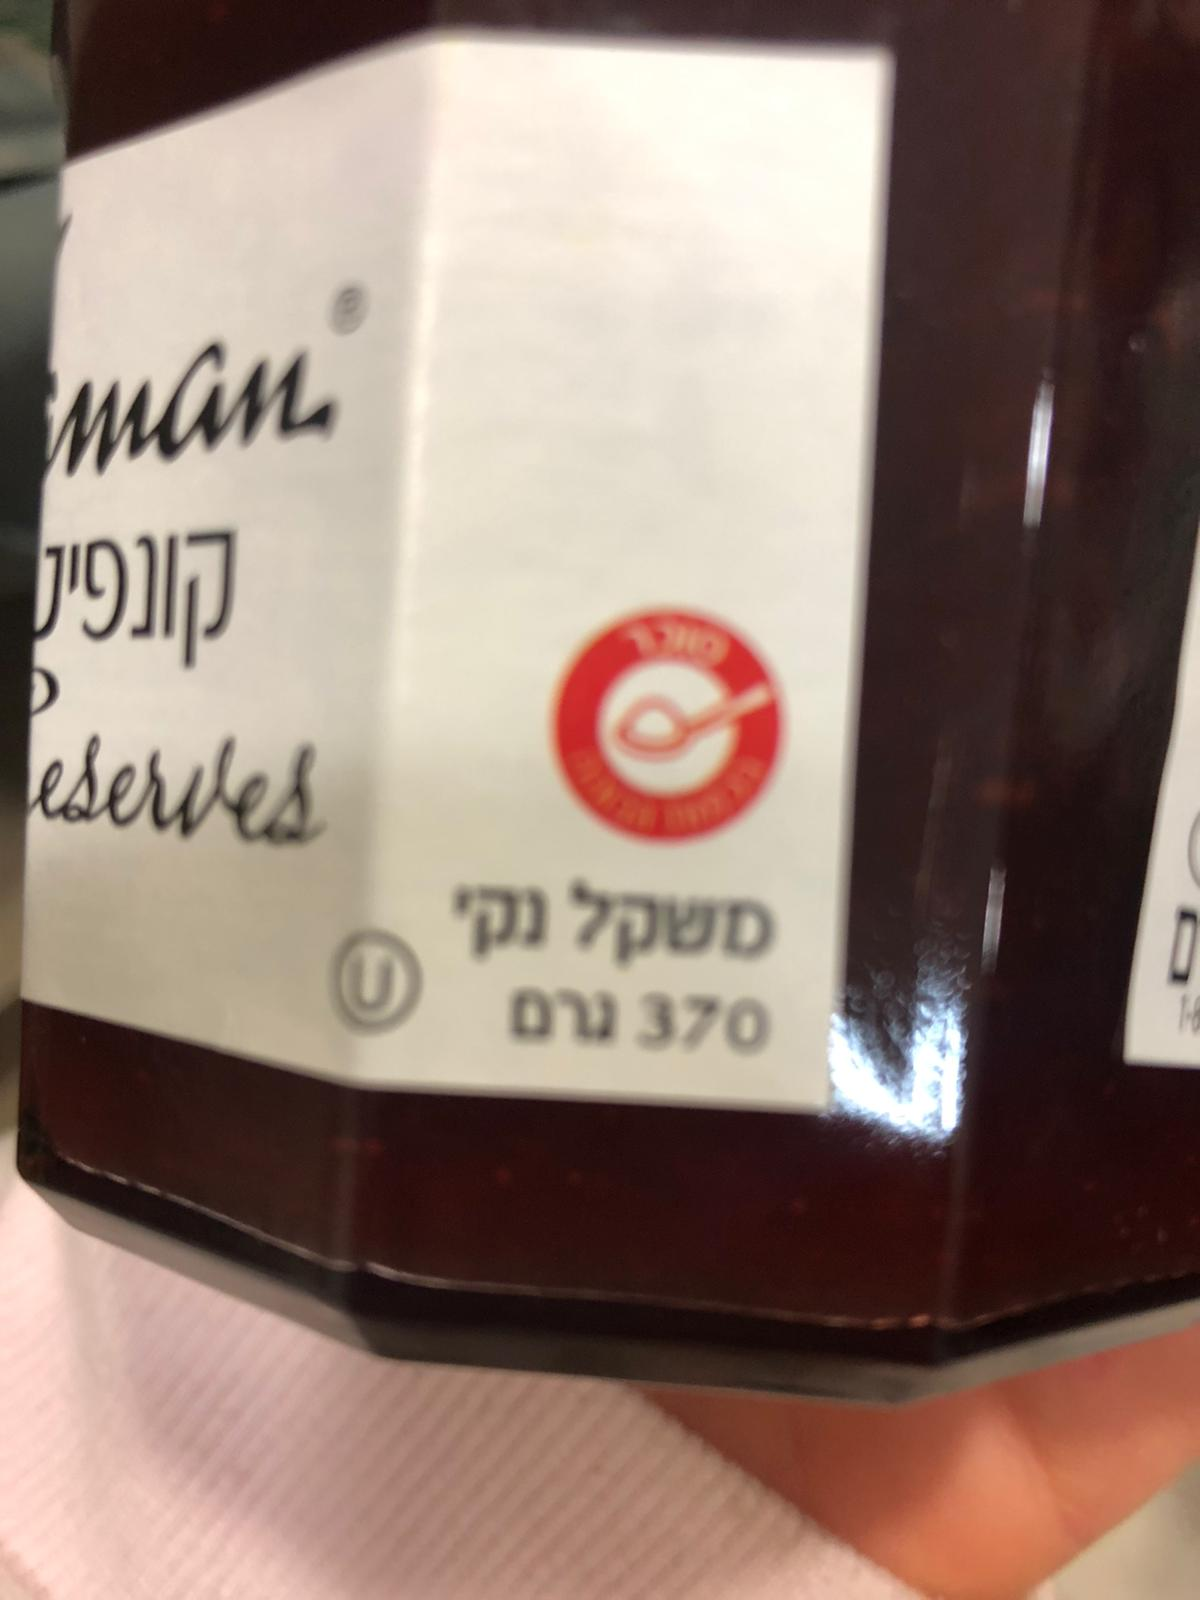sugar: (551, 605, 787, 845)
